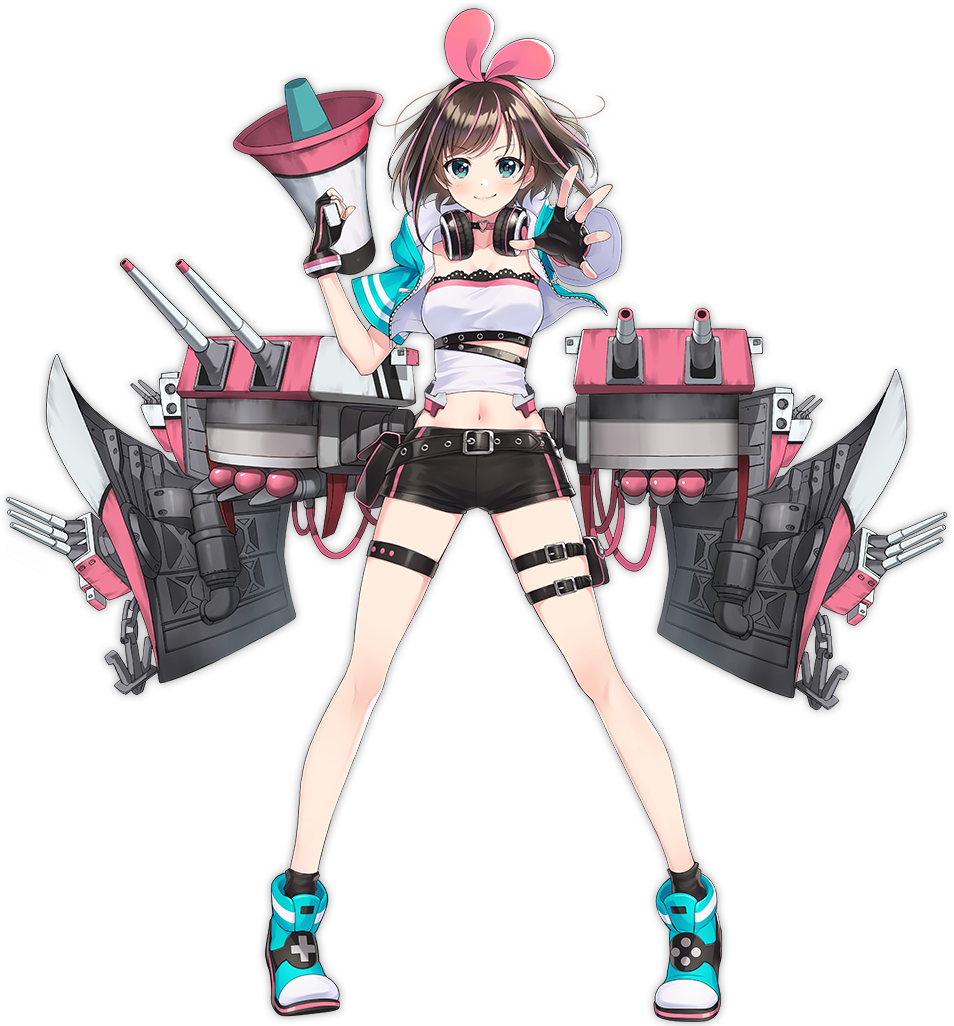person: (212, 75, 763, 758)
